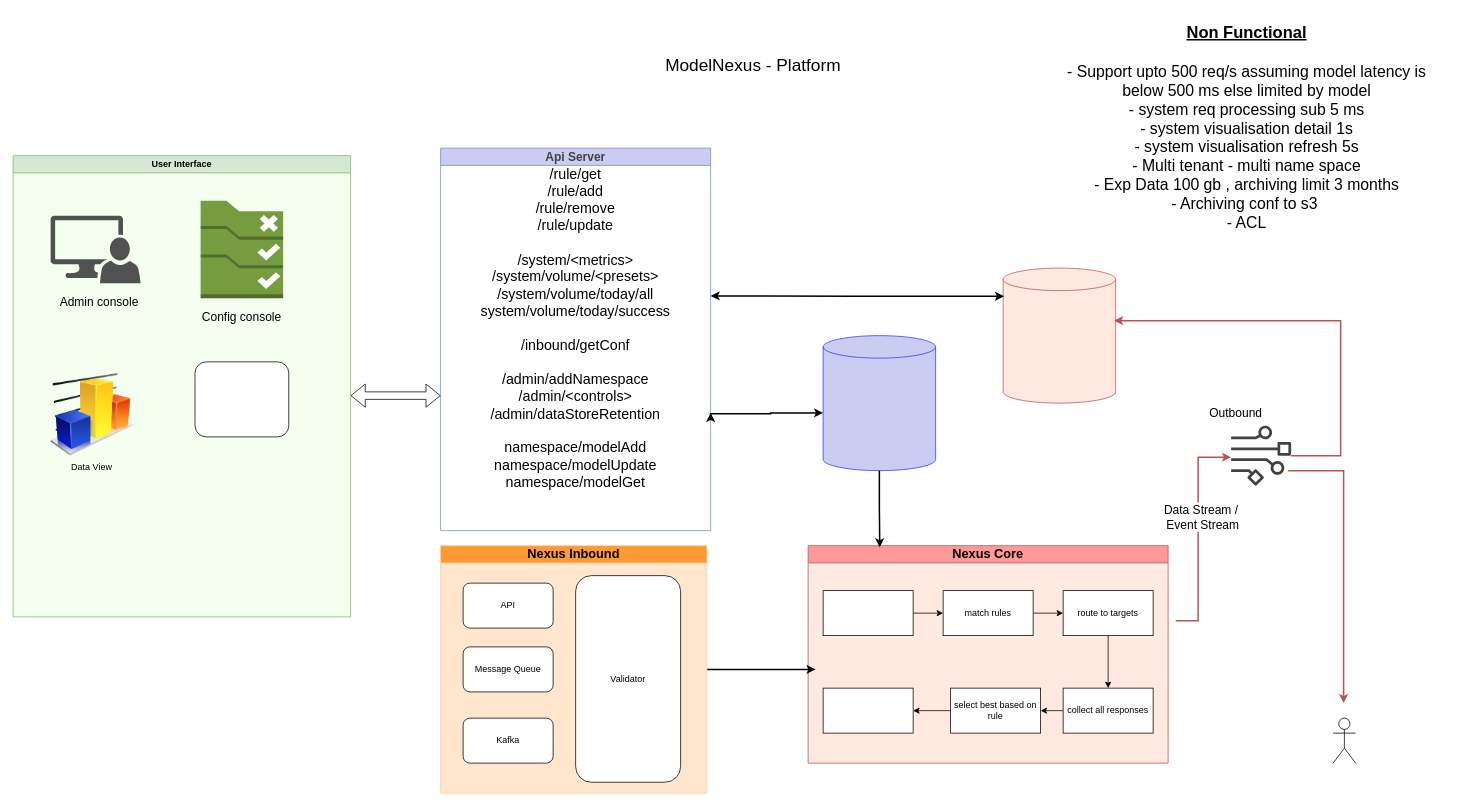
Some shapes in this 1459 by 806 pixel diagram are drawn without their labels. Each missing label, with the centre of its shape:
Client Consumer: the point at 1344,740
Custom Functions: the point at 241,399
load rules: the point at 867,613
Nexus config store: the point at 879,403
Nexus Data store: the point at 1059,335
respond back: the point at 867,710
